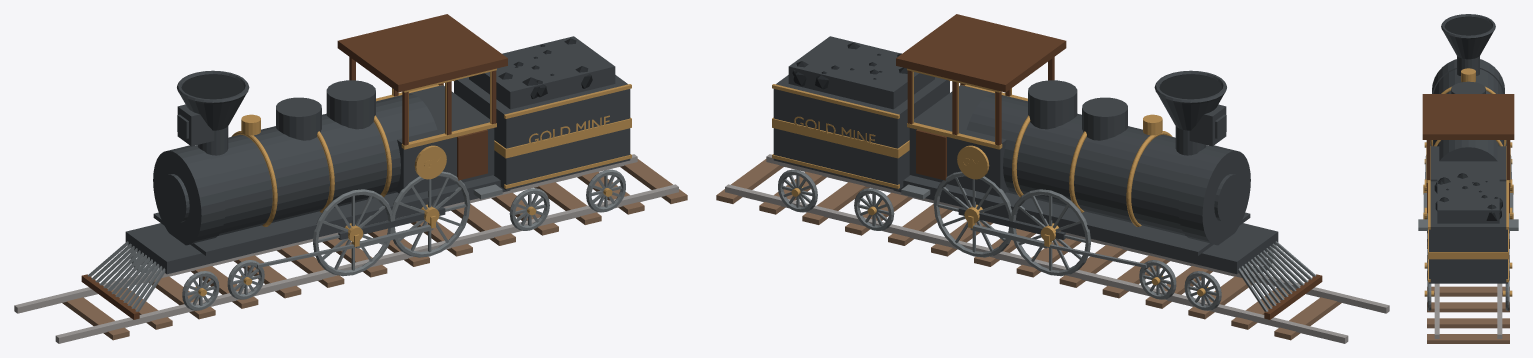
Rendered from goldmine_train.glb.
3 renders of one model, left to right at view 1: azimuth 30°, elevation 25°; view 2: azimuth 150°, elevation 25°; view 3: azimuth 270°, elevation 25°, orthographic. The views are drawn at different scales.
Visible parts, largest first — view 1: Boiler, Tender, CabRoof, TenderCoal, Smokebox, Frame, RailR, Cab lower body, RunningBoard, RailL, SandDome, SteamDome (+35 smaller); view 2: Boiler, Tender, CabRoof, TenderCoal, Smokebox, Frame, RailL, Cab lower body, RunningBoard, RailR, SandDome, SteamDome (+35 smaller); view 3: Tender, CabRoof, TenderCoal, Boiler, Cab lower body, Tie_12, Tie_13, Tie_11, Funnel dark opening, Tie_10, Flared funnel, TenderStripe (+16 smaller).
Part boxes in pixels (bbox=[...]): Boiler: bbox=[196, 93, 437, 235]; Tender: bbox=[454, 75, 630, 190]; CabRoof: bbox=[337, 14, 507, 92]; TenderCoal: bbox=[469, 36, 615, 109]; Smokebox: bbox=[153, 145, 225, 245]; Frame: bbox=[125, 175, 510, 274]; RailR: bbox=[55, 184, 678, 343]; Cab lower body: bbox=[377, 85, 494, 196]; RunningBoard: bbox=[153, 184, 462, 255]; RailL: bbox=[14, 154, 637, 313]; SandDome: bbox=[326, 80, 375, 129]; SteamDome: bbox=[276, 97, 321, 140]; Boiler: bbox=[966, 93, 1207, 235]; Tender: bbox=[773, 75, 949, 190]; CabRoof: bbox=[896, 14, 1066, 92]; TenderCoal: bbox=[788, 36, 934, 109]; Smokebox: bbox=[1178, 145, 1250, 245]; Frame: bbox=[893, 175, 1278, 274]; RailL: bbox=[725, 184, 1348, 343]; Cab lower body: bbox=[909, 85, 1026, 196]; RunningBoard: bbox=[941, 184, 1250, 255]; RailR: bbox=[766, 154, 1389, 313]; SandDome: bbox=[1028, 80, 1077, 129]; SteamDome: bbox=[1082, 97, 1127, 140]; Tender: bbox=[1429, 181, 1507, 283]; CabRoof: bbox=[1422, 94, 1514, 139]; TenderCoal: bbox=[1437, 171, 1499, 223]; Boiler: bbox=[1433, 69, 1503, 161]; Cab lower body: bbox=[1430, 146, 1506, 181]; Tie_12: bbox=[1427, 318, 1509, 328]; Tie_13: bbox=[1427, 334, 1509, 343]; Tie_11: bbox=[1427, 302, 1509, 312]; Funnel dark opening: bbox=[1444, 17, 1492, 35]; Tie_10: bbox=[1427, 286, 1509, 296]; Flared funnel: bbox=[1443, 32, 1493, 59]; TenderStripe: bbox=[1428, 229, 1508, 259].
Size of the model in its own units: 13.07 by 4.08 by 2.41.
